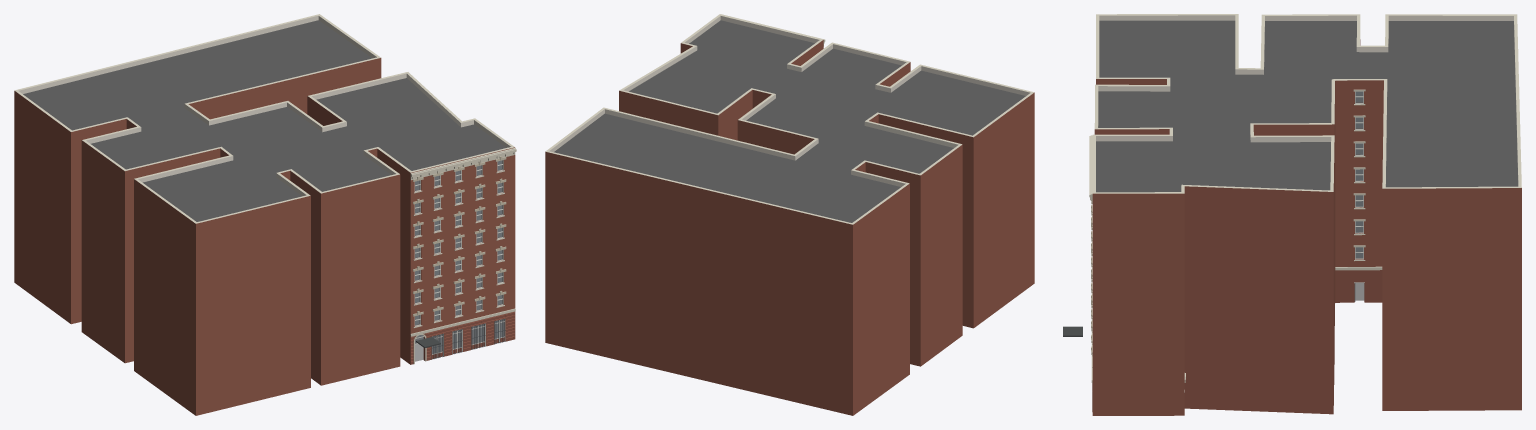
Rendered from exterior.glb.
3 views of the same model, side by side, from view 1: azimuth 30°, elevation 25°; view 2: azimuth 150°, elevation 25°; view 3: azimuth 270°, elevation 25° (orthographic). The views are drawn at different scales.
Parts seen in each view (by area): view 1: shell, roof, glazing, shadow-proxy, trim, hand-ornament, frames, storefront, hyD-rubble-9; view 2: shell, roof; view 3: shell, roof, trim, glazing, shadow-proxy, hand-ornament.
Part boxes in pixels (x1,y1,x2,y2): shell: [14, 14, 515, 415]; roof: [23, 20, 505, 221]; glazing: [414, 160, 504, 354]; shadow-proxy: [415, 160, 503, 361]; trim: [410, 148, 516, 336]; hand-ornament: [413, 156, 506, 348]; frames: [414, 160, 503, 326]; storefront: [415, 319, 505, 359]; hyD-rubble-9: [411, 312, 514, 361]; shell: [545, 14, 1034, 415]; roof: [554, 20, 1025, 222]; shell: [1092, 14, 1521, 415]; roof: [1096, 20, 1518, 192]; trim: [1089, 89, 1382, 382]; glazing: [1355, 91, 1363, 258]; shadow-proxy: [1355, 92, 1364, 300]; hand-ornament: [1063, 200, 1092, 354].
Bounding box in the file's own units: 43.12 × 24.87 × 46.51.
